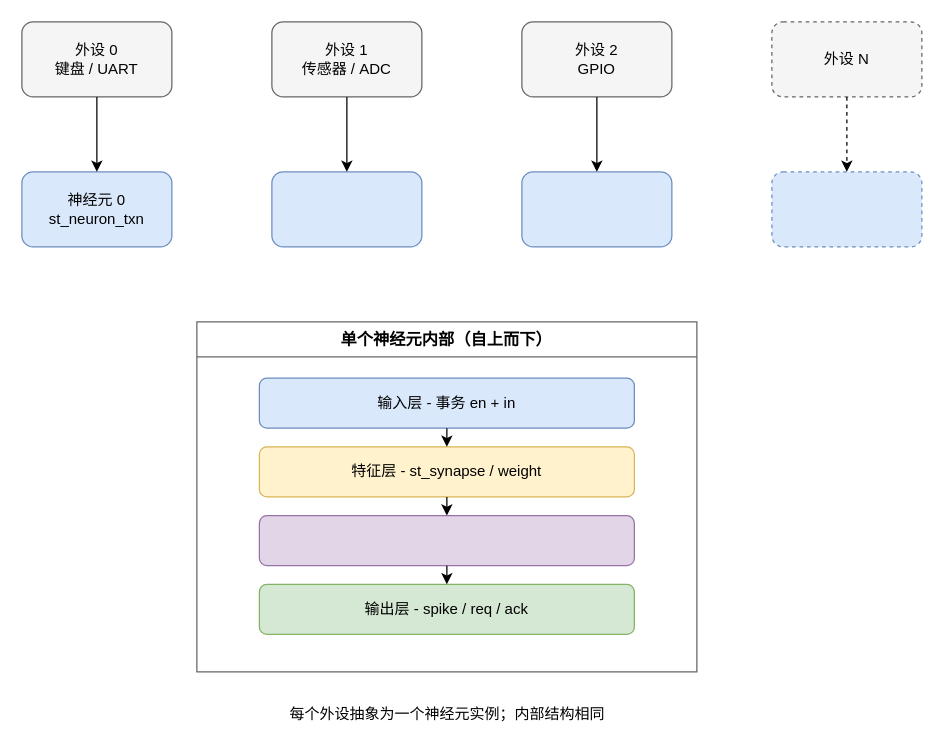
Image size: 944x756. Some labels were removed from this diagram. Each missing label, with the box of its shape:
关联存储 - sticky + C元符合: (258, 514, 634, 566)
神经元 1 st_neuron_txn: (271, 171, 422, 247)
神经元 2 st_neuron_txn: (521, 171, 672, 247)
神经元 N st_neuron_txn: (771, 171, 922, 247)
